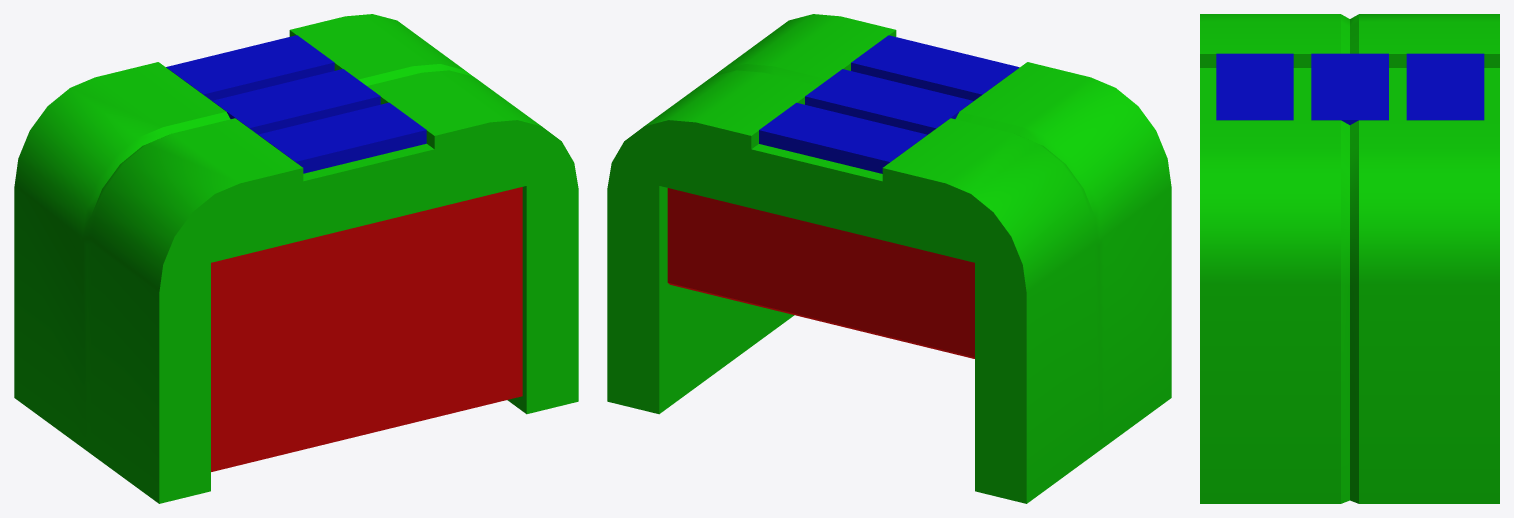
File: Hangar_l 1.fbx
The picture shows the model from 3 angles, left to right: view 1: azimuth 30°, elevation 25°; view 2: azimuth 150°, elevation 25°; view 3: azimuth 270°, elevation 25°; orthographic projection. The views are drawn at different scales.
Visible parts, largest first — view 1: Cube.052; view 2: Cube.052; view 3: Cube.052.
Part boxes in pixels (left/top/right/bottom): Cube.052: left=14, top=14, right=578, bottom=503; Cube.052: left=607, top=14, right=1171, bottom=503; Cube.052: left=1200, top=14, right=1499, bottom=503.
Bounding box in the file's own units: 416 × 249 × 285.
